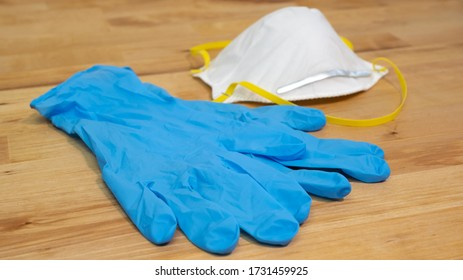Gloves: (37, 75, 374, 258)
Mask: (195, 1, 412, 108)
